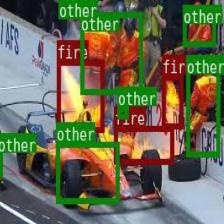fire: (56, 60, 104, 132), (113, 125, 173, 163), (161, 74, 182, 128)
